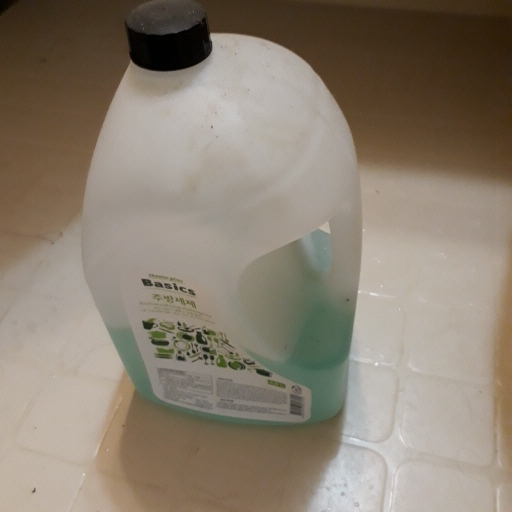Plastic_1: (83, 1, 365, 434)
